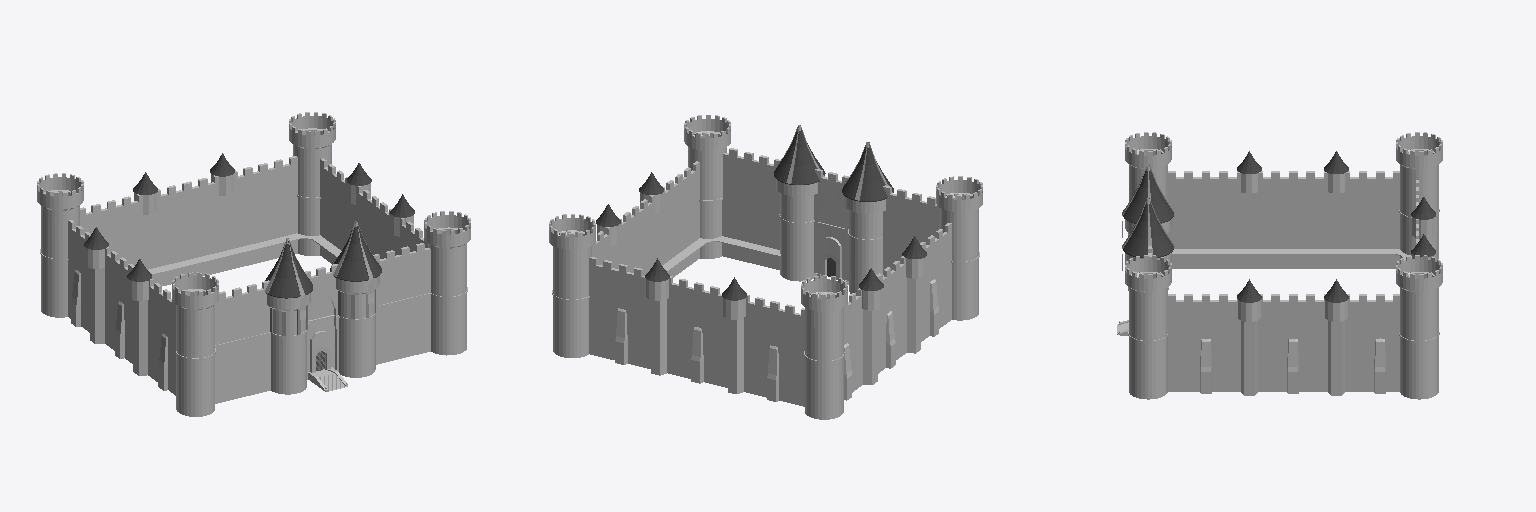
The model's file is darkcastle.obj.
3 views of the same model, side by side, from view 1: azimuth 30°, elevation 25°; view 2: azimuth 150°, elevation 25°; view 3: azimuth 270°, elevation 25° (orthographic).
Parts seen in each view (by area): view 1: Castle_Catle; view 2: Castle_Catle; view 3: Castle_Catle.
Part boxes in pixels (bbox=[...]): Castle_Catle: bbox=[37, 112, 470, 416]; Castle_Catle: bbox=[549, 115, 982, 419]; Castle_Catle: bbox=[1117, 132, 1442, 399].
Size of the model in its own units: 234 by 113 by 226.